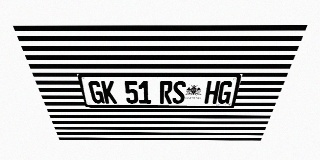1: (137, 81, 151, 104)
5: (124, 81, 139, 104)
G: (216, 81, 234, 104), (87, 81, 105, 103)
H: (204, 81, 220, 104)
K: (101, 81, 117, 103)
R: (160, 81, 173, 104)
S: (172, 81, 186, 104)
